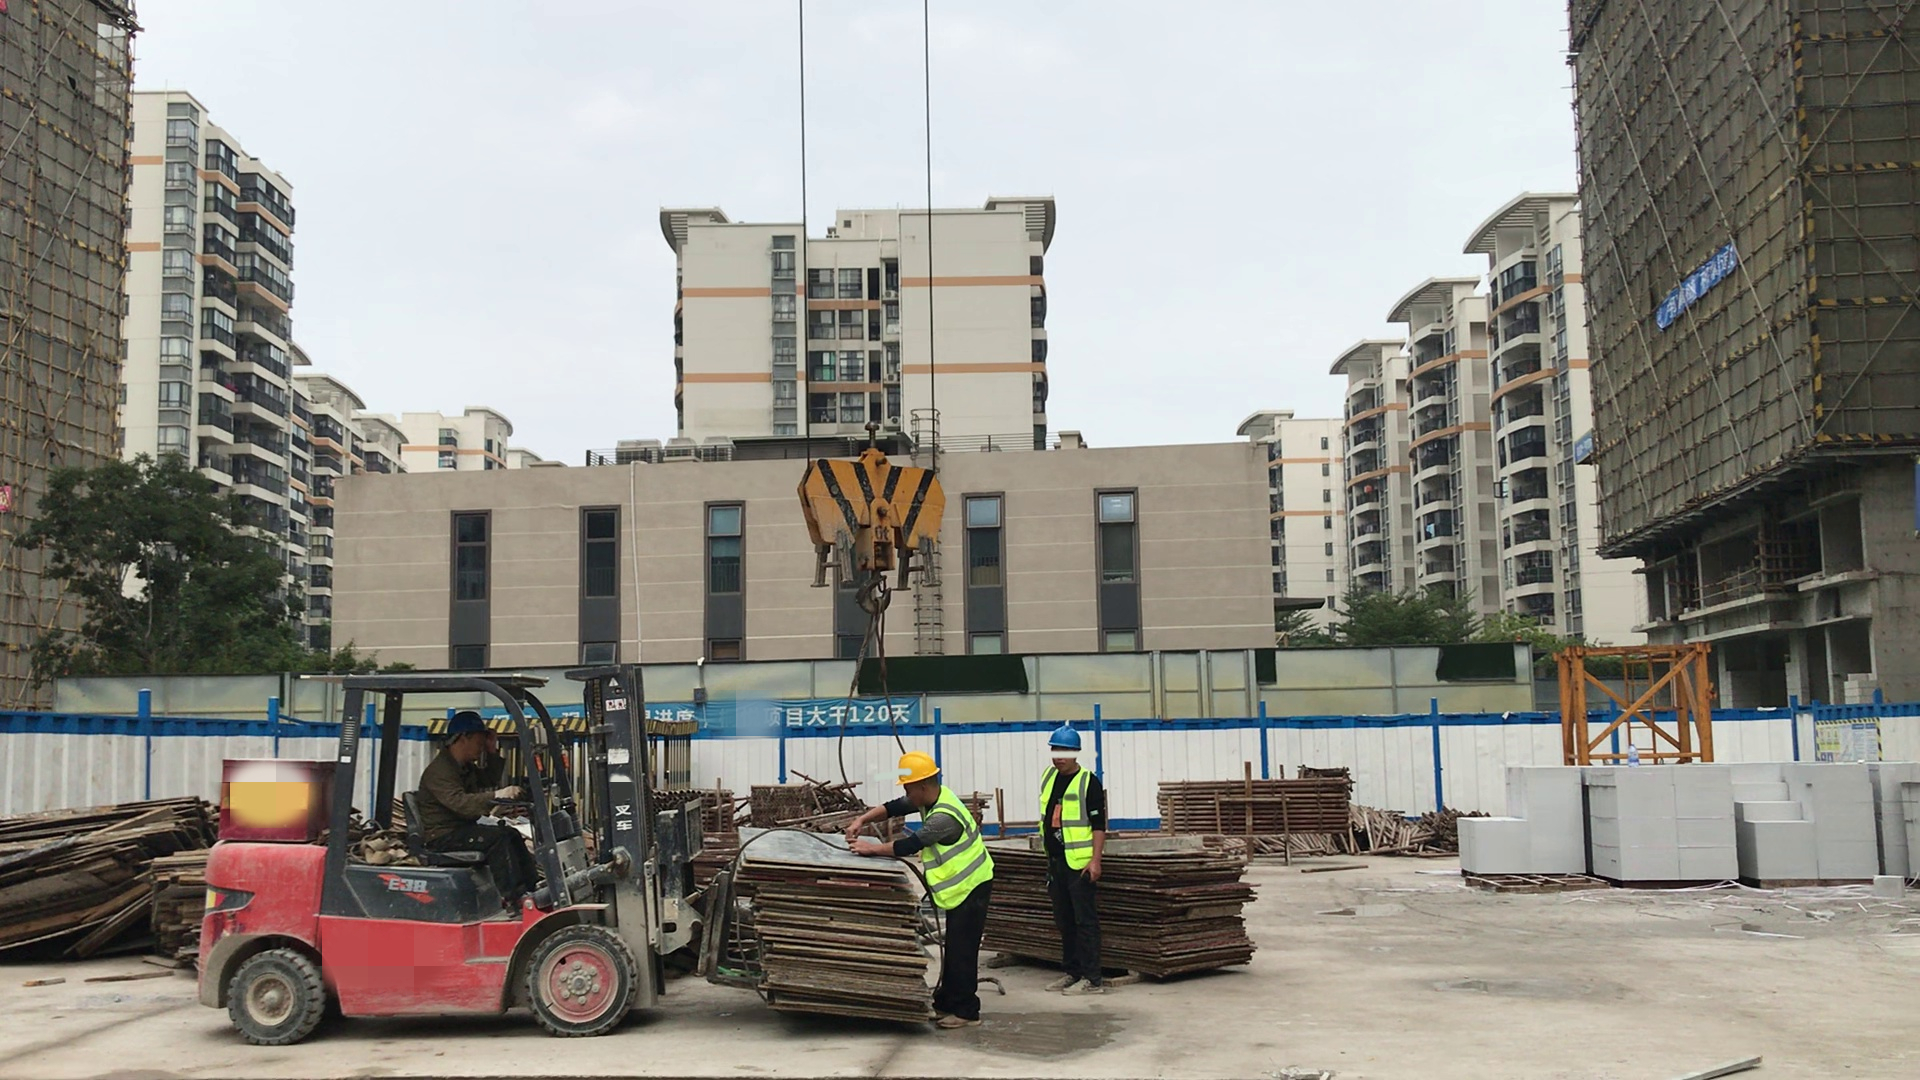board: (731, 811, 939, 1039), (989, 835, 1265, 981), (6, 800, 215, 989)
brick: (1589, 760, 1742, 888), (1740, 753, 1881, 892), (1452, 755, 1589, 886), (1872, 751, 1920, 879)
helmet: (892, 749, 946, 787), (441, 707, 496, 741), (1050, 724, 1086, 752)
hook: (784, 435, 987, 594)
person: (844, 747, 990, 1034), (414, 708, 542, 923), (1026, 716, 1117, 1002)
scaffold: (1152, 779, 1359, 863), (1364, 798, 1458, 856), (657, 782, 745, 830)
slogan: (1635, 242, 1752, 348)
vest: (909, 794, 995, 909), (1037, 761, 1102, 877)
